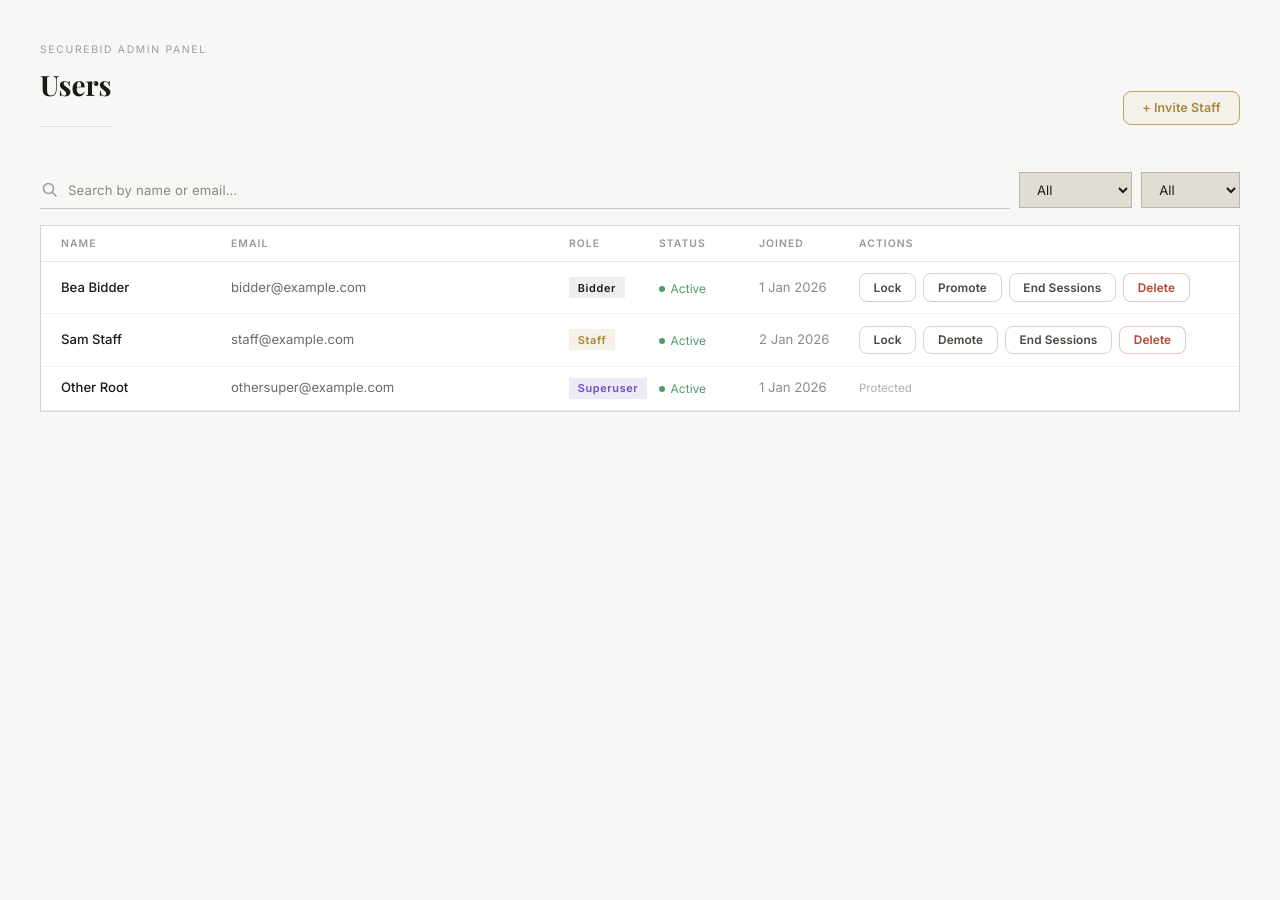
Test: AdminUsers — Delete two-step confirmation › deletes the user and removes their row once Confirm is clicked
The image size is (1280, 900).
Expected: the text "bidder@example.com" is shown, [211,262,549,314]
What coordinates should you click on to do the following:
click the button "Delete" in the row of "Bea Bidder"
I would click on:
 (1156, 288)
Its box is [1123,273,1190,302].
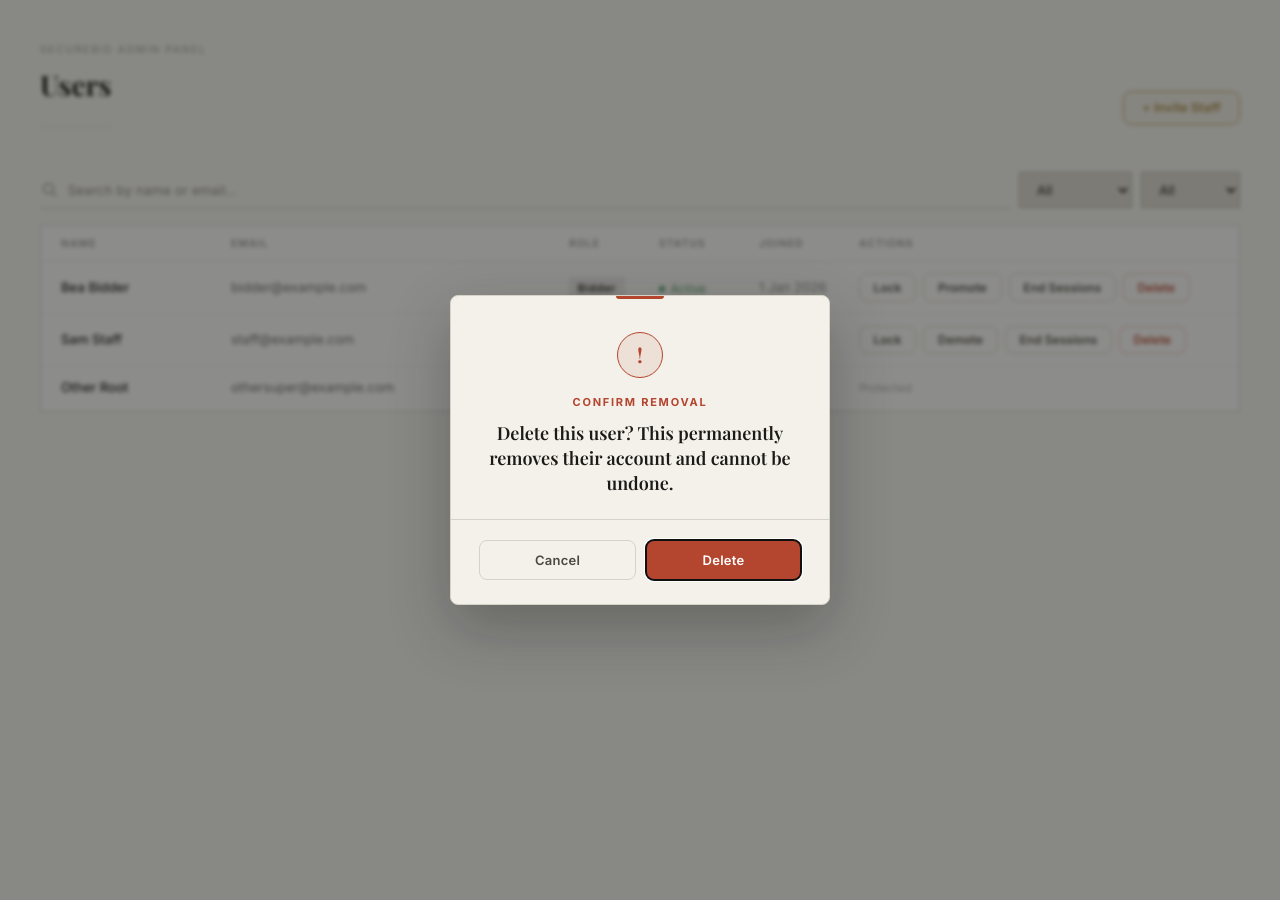
Expected: the text "Delete this user? This permanently removes their account and cannot be undone." is shown, [479,421,801,497]
What coordinates should you click on to do the following:
click the button "Delete"
I would click on:
 (724, 560)
Its box is [646,540,801,580].
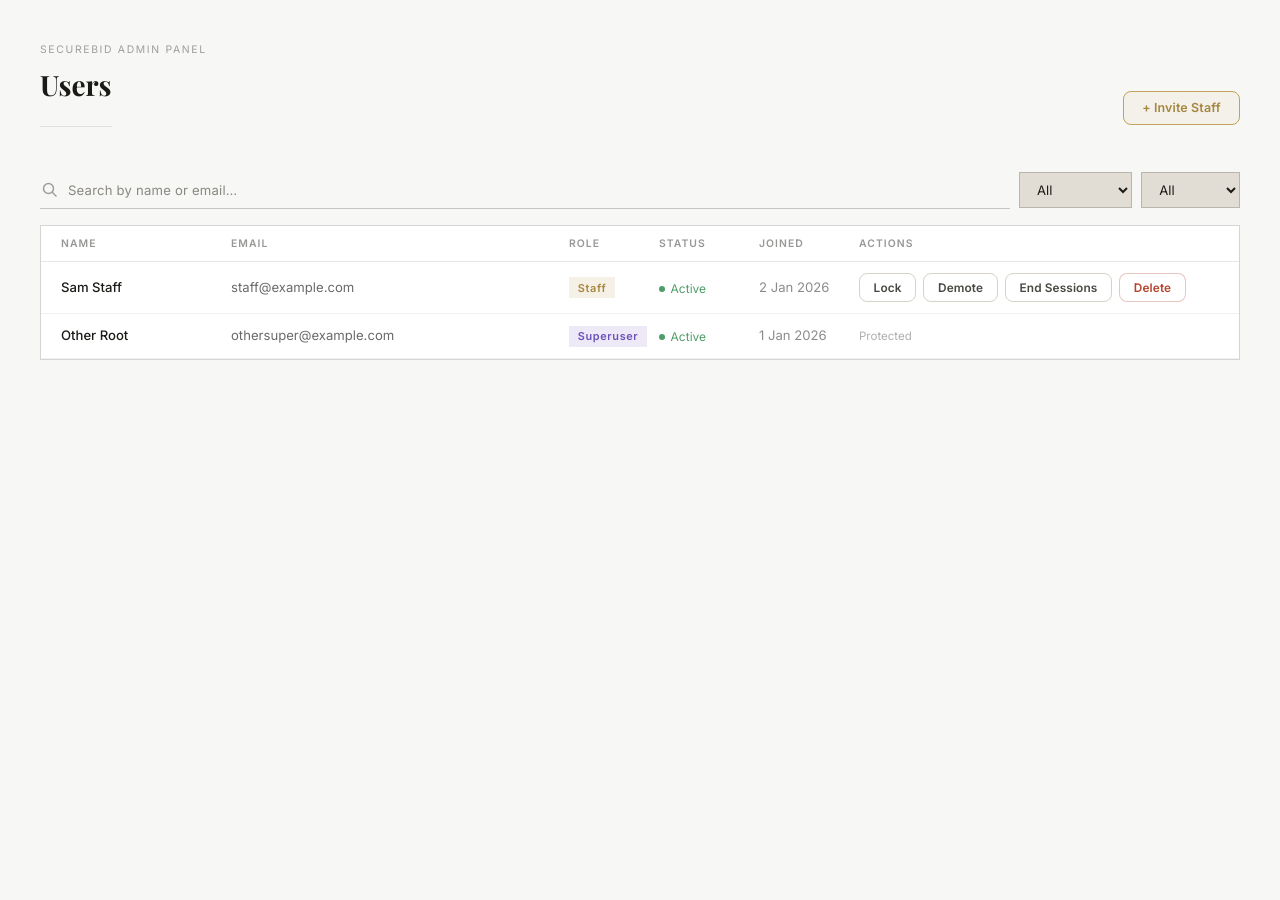
Expected: the text "bidder@example.com" is gone
